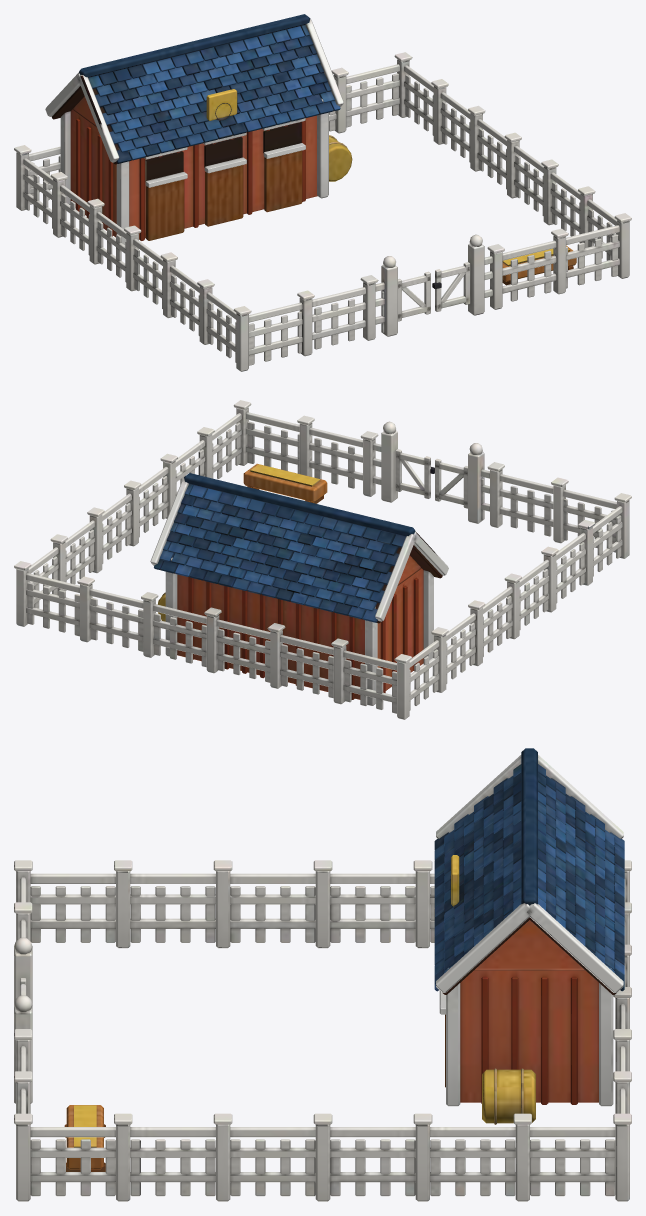
File: clydesdale_stable.glb
The picture shows the model from 3 angles, top to bottom: view 1: azimuth 30°, elevation 25°; view 2: azimuth 150°, elevation 25°; view 3: azimuth 270°, elevation 25°; orthographic projection. The views are drawn at different scales.
Visible parts, largest first — view 1: clydesdale_stable, gate1, gate0; view 2: clydesdale_stable, gate1, gate0; view 3: clydesdale_stable.
Part boxes in pixels (bbox=[...]): clydesdale_stable: bbox=[14, 14, 631, 371]; gate1: bbox=[432, 262, 470, 311]; gate0: bbox=[398, 271, 430, 321]; clydesdale_stable: bbox=[14, 400, 631, 719]; gate1: bbox=[395, 449, 434, 498]; gate0: bbox=[435, 458, 467, 508]; clydesdale_stable: bbox=[14, 748, 631, 1201].
Bounding box in the file's own units: 2.99 × 1.16 × 2.99.
1 material, 1 textured.
